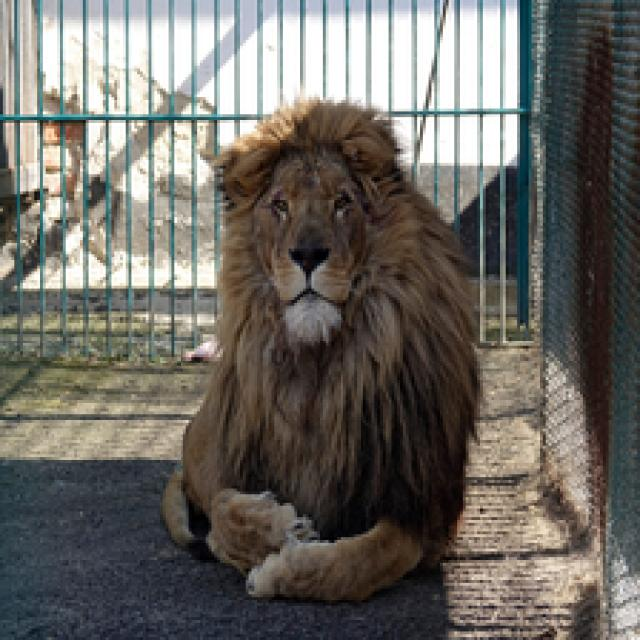lion: (137, 71, 509, 640)
